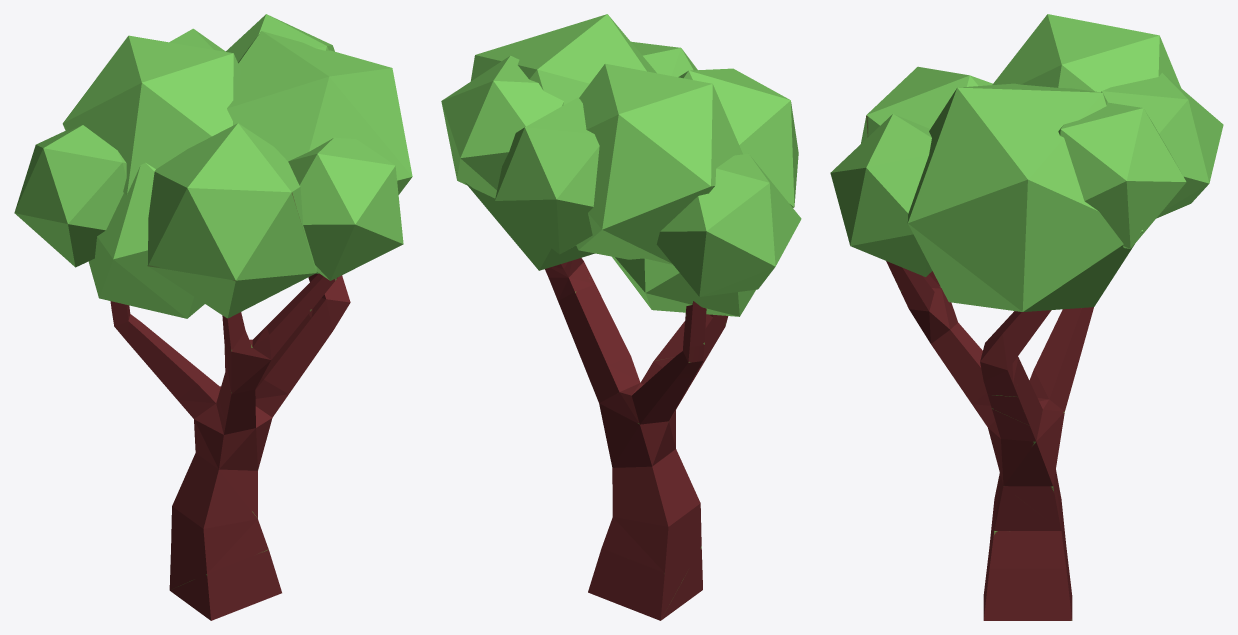
Rendered from Tree.obj.
3 views of the same model, side by side, from view 1: azimuth 30°, elevation 25°; view 2: azimuth 150°, elevation 25°; view 3: azimuth 270°, elevation 25° (orthographic). The views are drawn at different scales.
Parts seen in each view (by area): view 1: Tree_5; view 2: Tree_5; view 3: Tree_5.
Boxes of the visible parts, x1,y1,x2,y2 form: Tree_5: (14, 14, 412, 620); Tree_5: (441, 14, 801, 620); Tree_5: (830, 14, 1223, 620).
Size of the model in its own units: 2.52 by 3.77 by 2.39.
